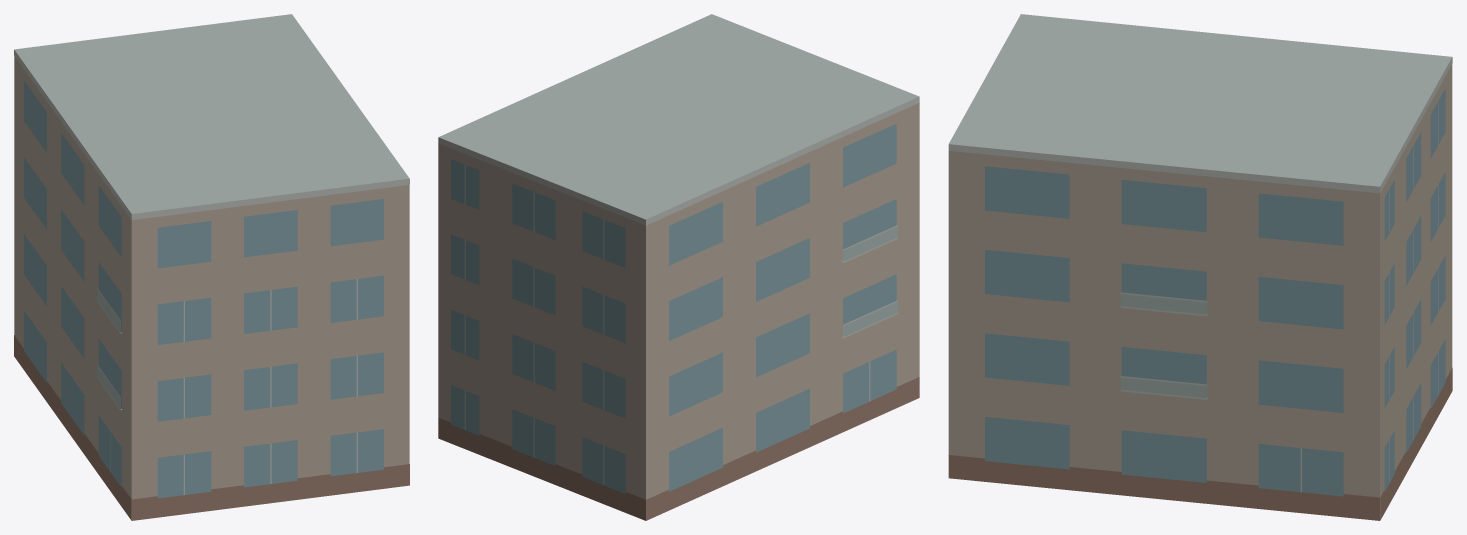
The model's file is residential-2fccd2f9-8c28-4782-836c-7ce65f1eb80f.glb.
The picture shows the model from 3 angles, left to right: view 1: azimuth 30°, elevation 25°; view 2: azimuth 150°, elevation 25°; view 3: azimuth 270°, elevation 25°; orthographic projection. The views are drawn at different scales.
Parts seen in each view (by area): view 1: residential-2fccd2f9-8c28-4782-836c-7ce65f1eb80f.tmp; view 2: residential-2fccd2f9-8c28-4782-836c-7ce65f1eb80f.tmp; view 3: residential-2fccd2f9-8c28-4782-836c-7ce65f1eb80f.tmp.
Part boxes in pixels (x1,y1,x2,y2): residential-2fccd2f9-8c28-4782-836c-7ce65f1eb80f.tmp: (14, 14, 409, 520); residential-2fccd2f9-8c28-4782-836c-7ce65f1eb80f.tmp: (438, 14, 919, 520); residential-2fccd2f9-8c28-4782-836c-7ce65f1eb80f.tmp: (948, 14, 1452, 520).
Size of the model in its own units: 13.54 by 12.2 by 16.69.
